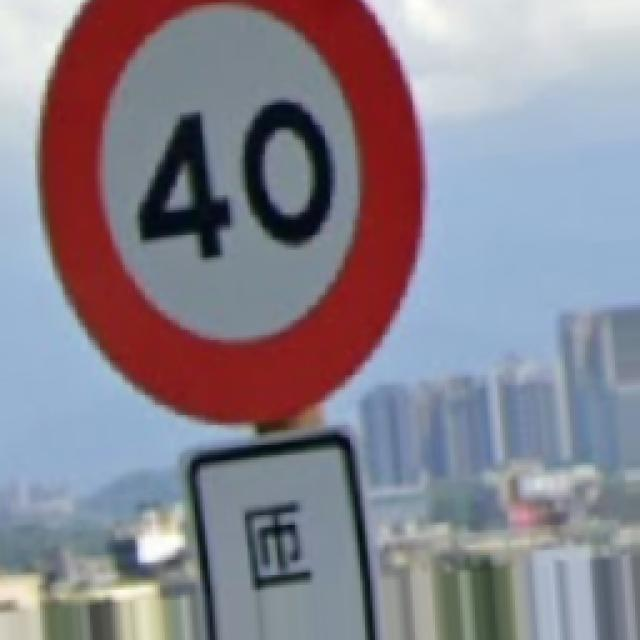Speed Limit -40-: (40, 0, 422, 422)
